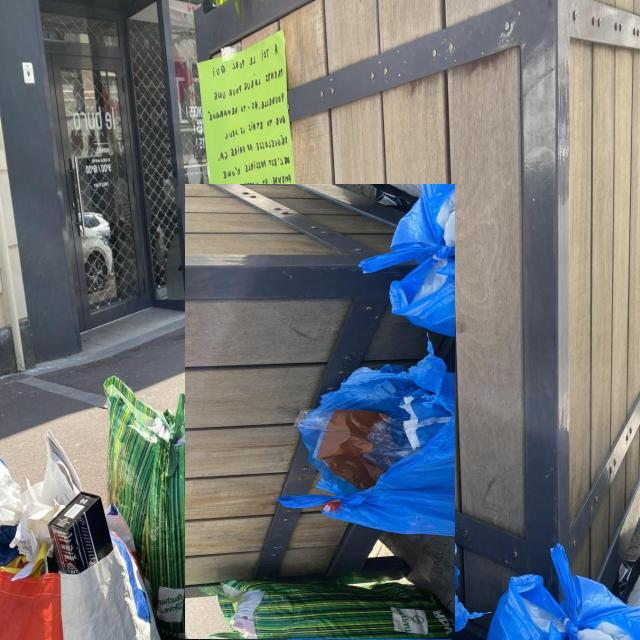garbage: (93, 276, 548, 640)
